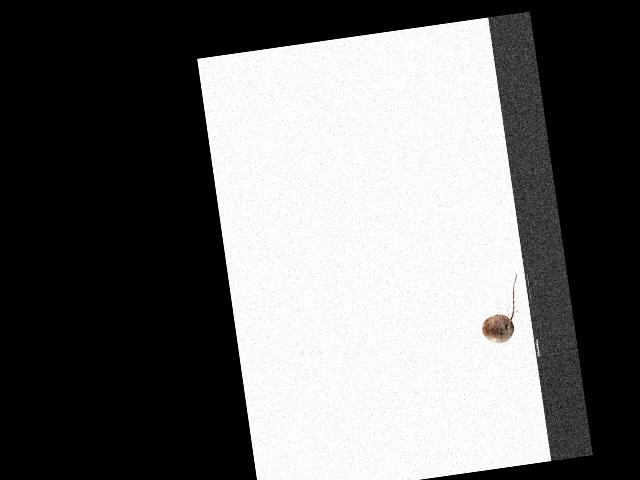beet: (475, 273, 526, 344)
